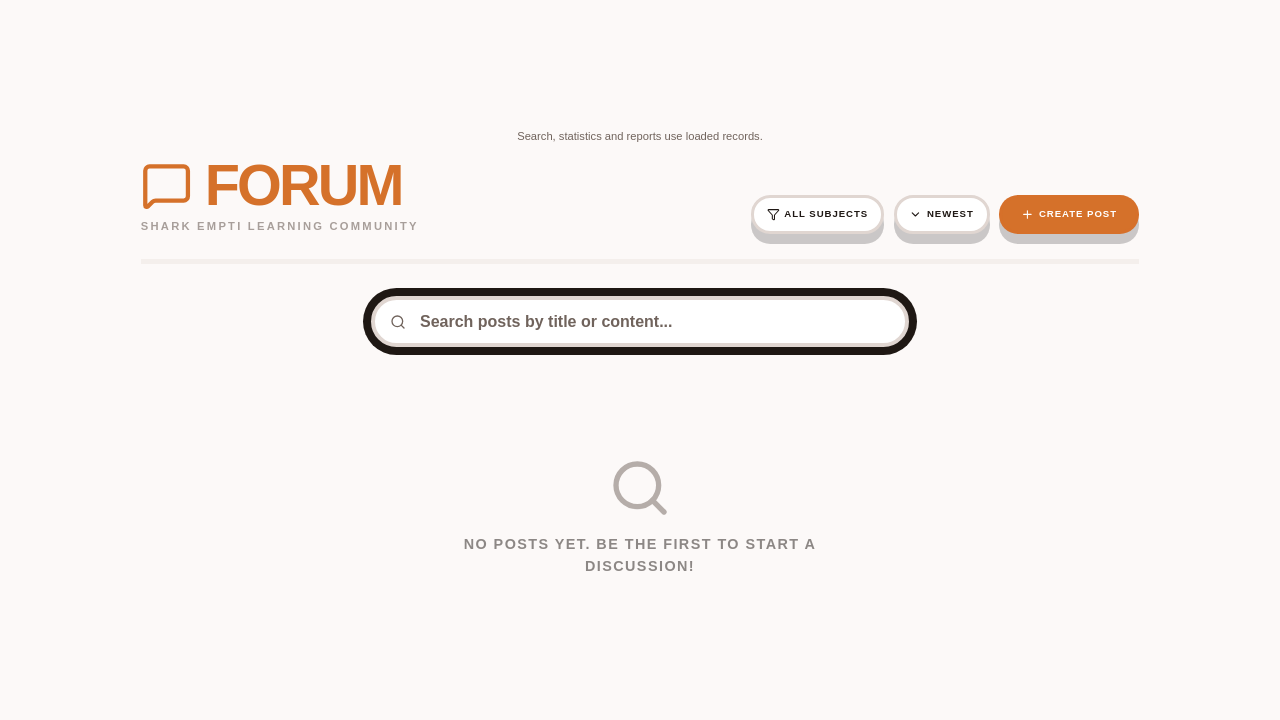
Scenario: keeps the same draft and allows retry after a rejected write
This screenshot has width=1280, height=720.
Click the button "Create Post".
click(1069, 214)  # box x1=999 y1=195 x2=1139 y2=234
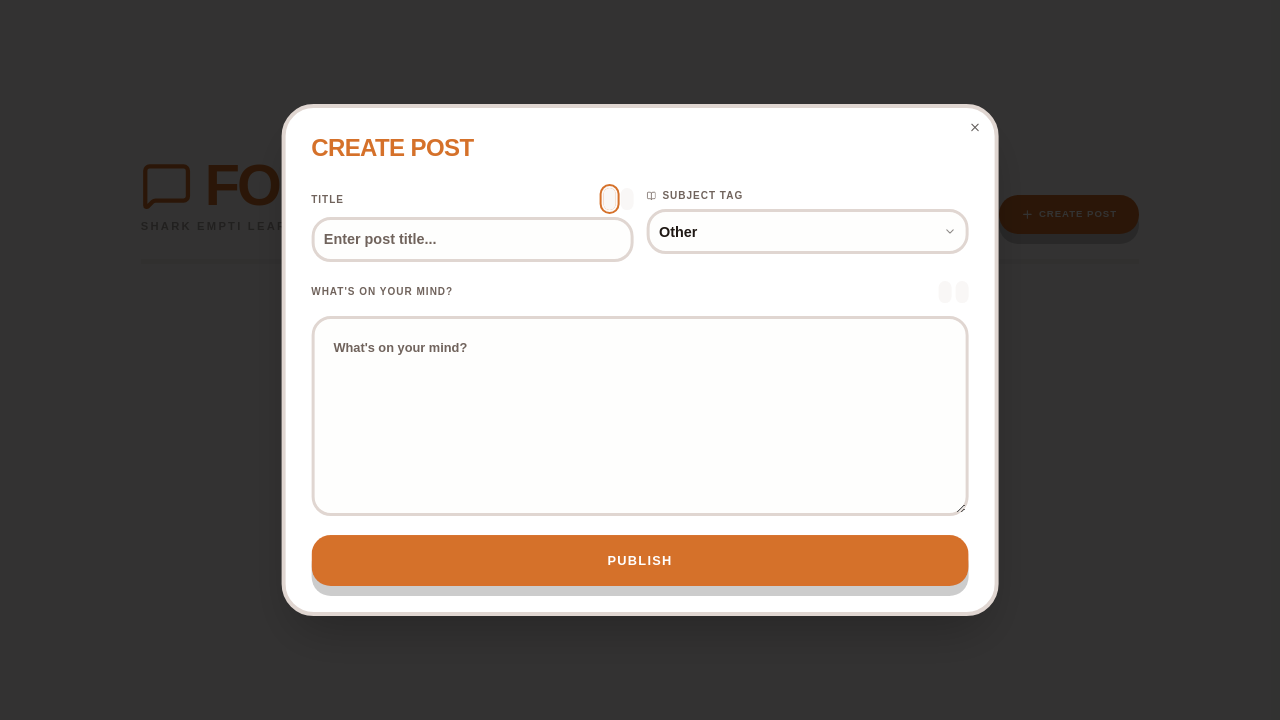
Type "My title" into the field with placeholder "Enter post title...".
click(472, 239); type("My title")  # box x1=311 y1=217 x2=634 y2=262
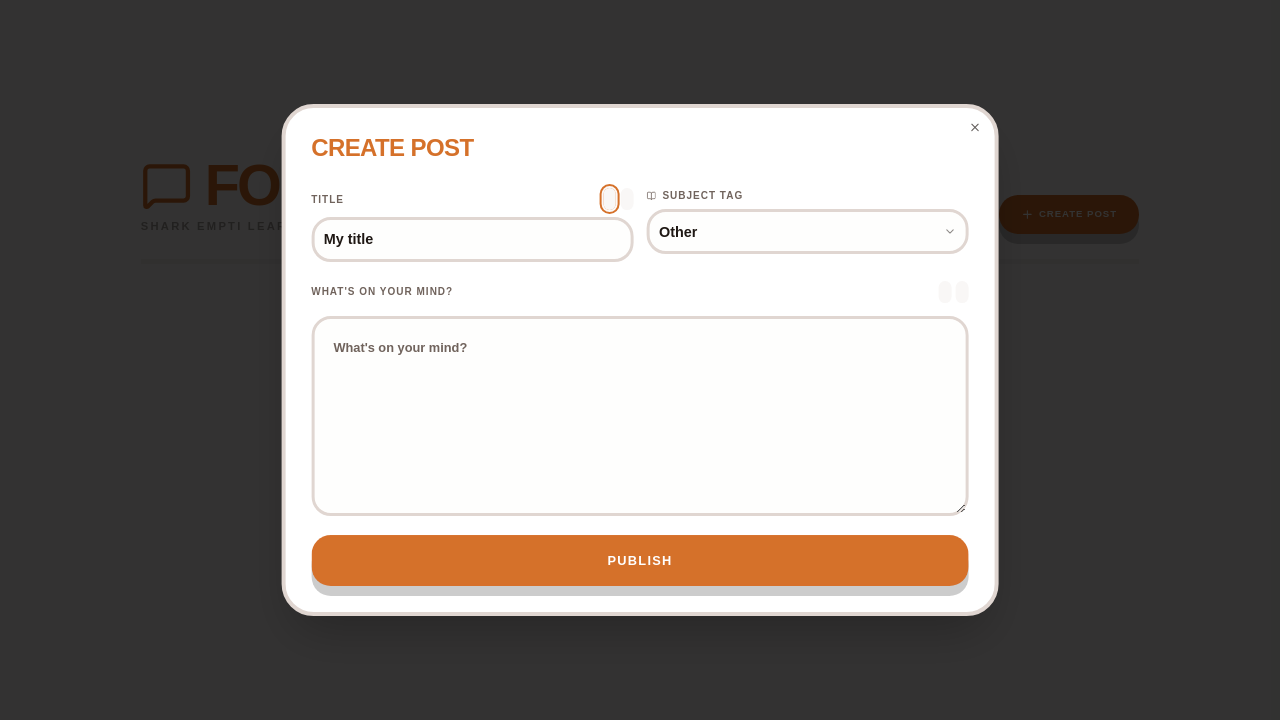
Type "My draft" into the text box with placeholder "What's on your mind?".
click(640, 416); type("My draft")  # box x1=311 y1=316 x2=969 y2=516
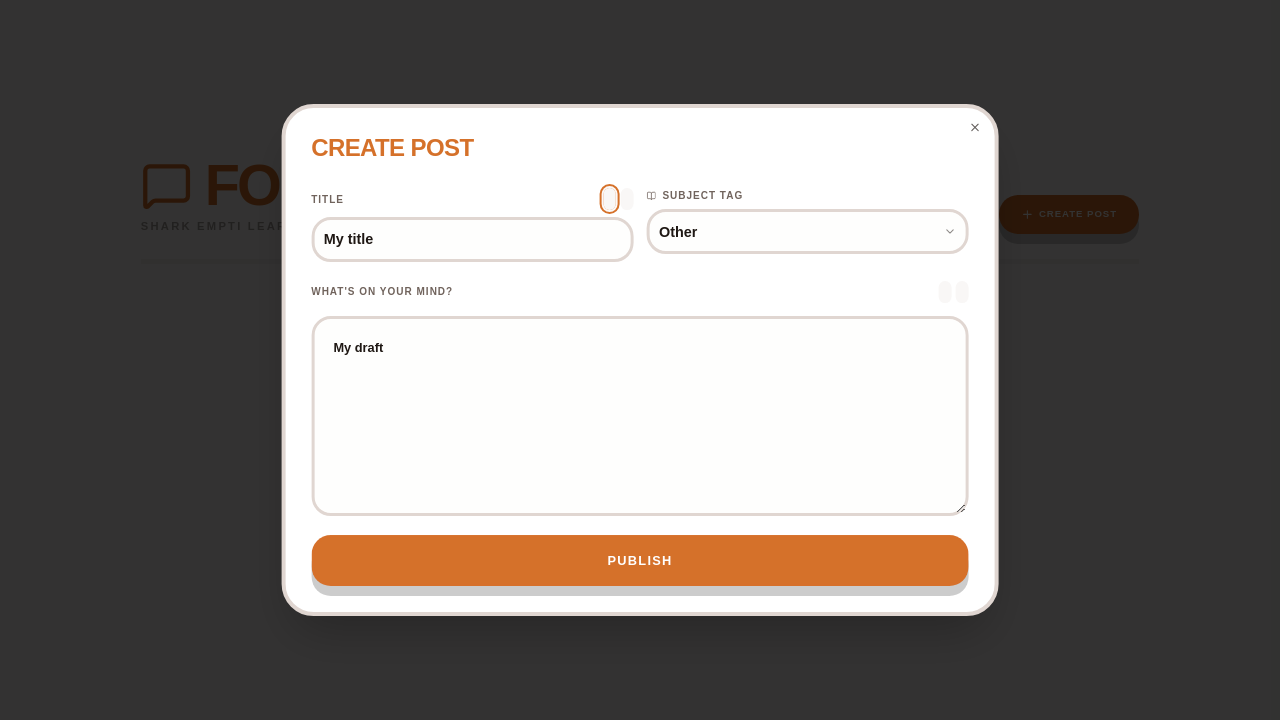
Click the button "Publish".
click(640, 561)  # box x1=311 y1=535 x2=969 y2=586
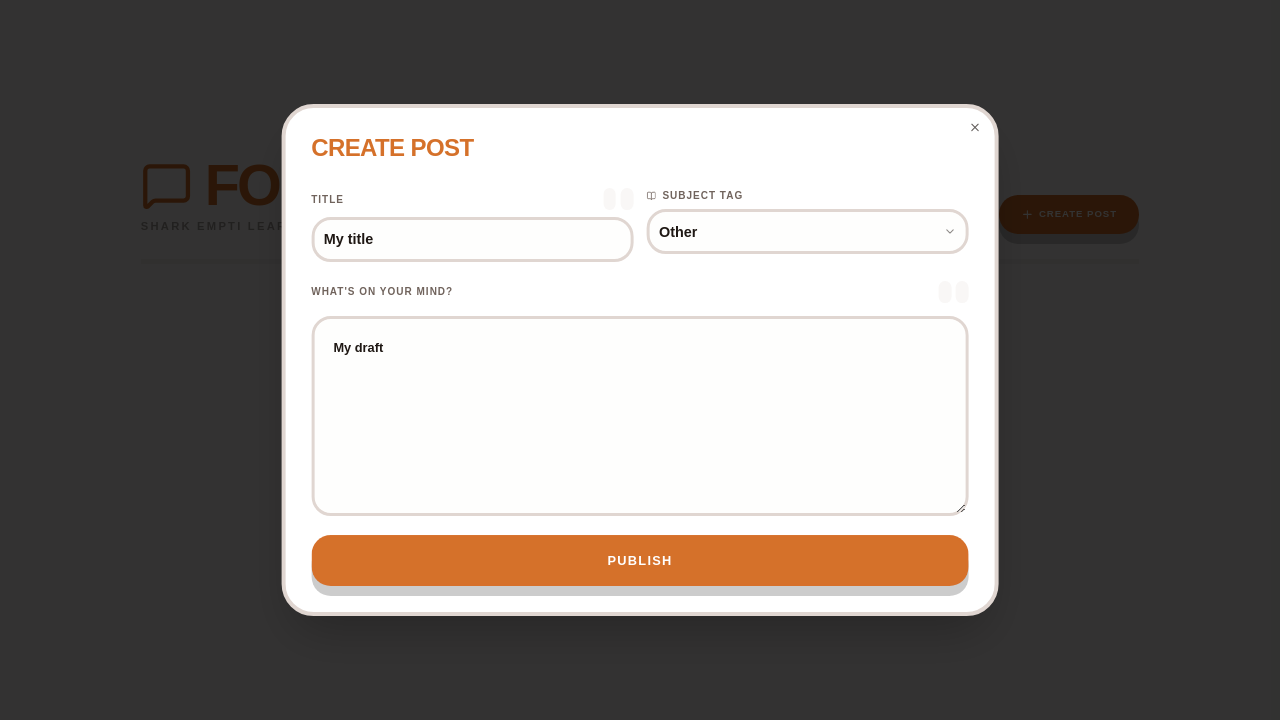
Click the button "Publish".
click(640, 561)  # box x1=311 y1=535 x2=969 y2=586
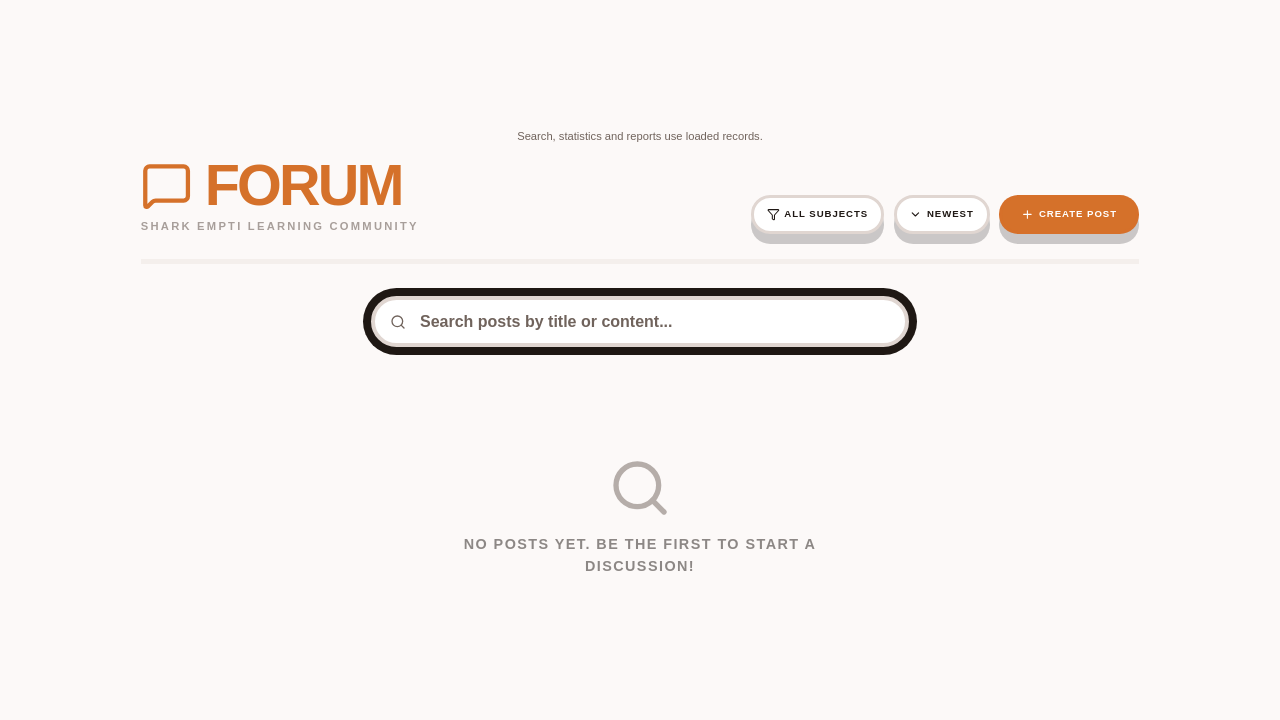
Result: the dialog is gone
